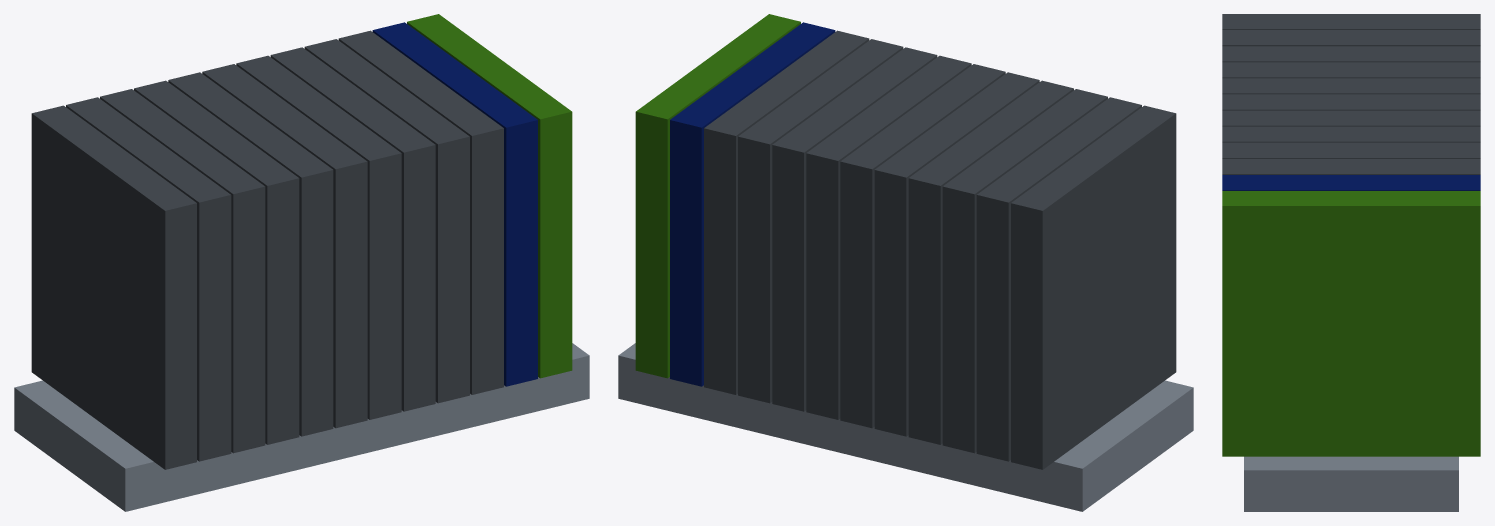
File: terminal_block.glb
3 views of the same model, side by side, from view 1: azimuth 30°, elevation 25°; view 2: azimuth 150°, elevation 25°; view 3: azimuth 270°, elevation 25° (orthographic). The views are drawn at different scales.
Visible parts, largest first — view 1: terminal_block; view 2: terminal_block; view 3: terminal_block.
Part boxes in pixels (<box>): terminal_block: <box>14,14,589,511</box>; terminal_block: <box>618,14,1193,511</box>; terminal_block: <box>1222,14,1480,511</box>.
Bounding box in the file's own units: 0.0844 × 0.0525 × 0.042.
